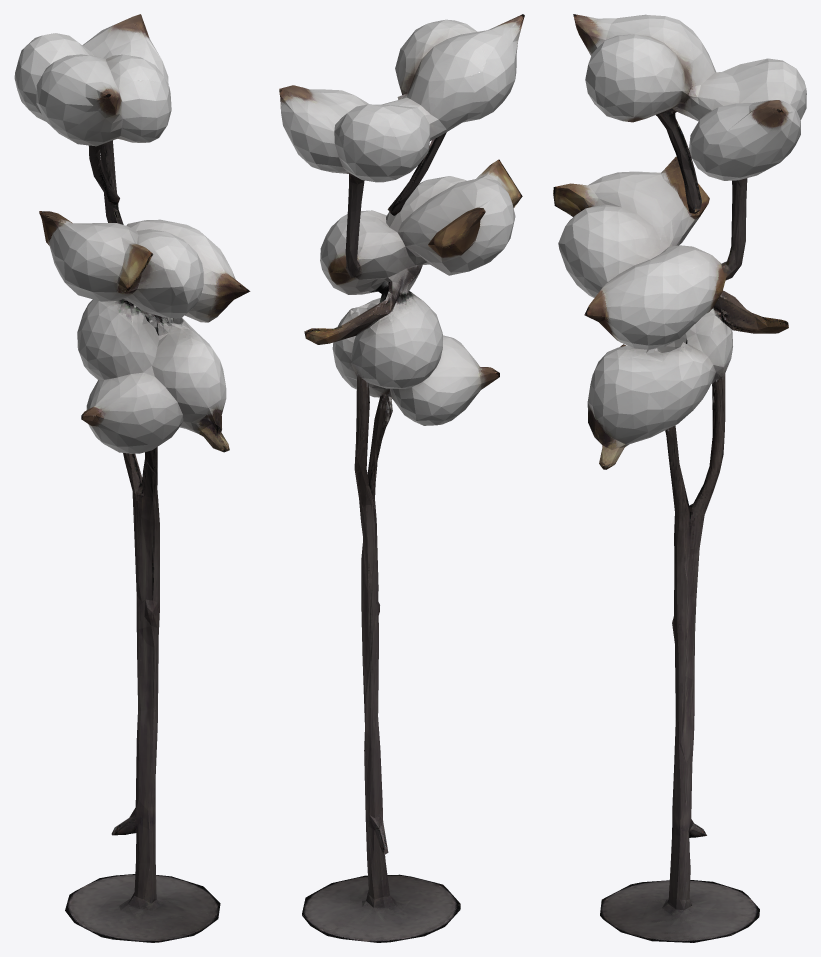
3 views of the same model, side by side, from view 1: azimuth 30°, elevation 25°; view 2: azimuth 150°, elevation 25°; view 3: azimuth 270°, elevation 25° (orthographic). The views are drawn at different scales.
Parts seen in each view (by area): view 1: node_990f8ab2_f93d_4962_b7eb_8d3d0014ecbf_mesh0; view 2: node_990f8ab2_f93d_4962_b7eb_8d3d0014ecbf_mesh0; view 3: node_990f8ab2_f93d_4962_b7eb_8d3d0014ecbf_mesh0.
Boxes of the visible parts, x1=… form: node_990f8ab2_f93d_4962_b7eb_8d3d0014ecbf_mesh0: x1=14, y1=14, x2=250, y2=942; node_990f8ab2_f93d_4962_b7eb_8d3d0014ecbf_mesh0: x1=279, y1=14, x2=524, y2=942; node_990f8ab2_f93d_4962_b7eb_8d3d0014ecbf_mesh0: x1=553, y1=14, x2=806, y2=942.
Bounding box in the file's own units: 0.2135 × 0.9992 × 0.268.
Materials: 1 (1 with a texture image).
